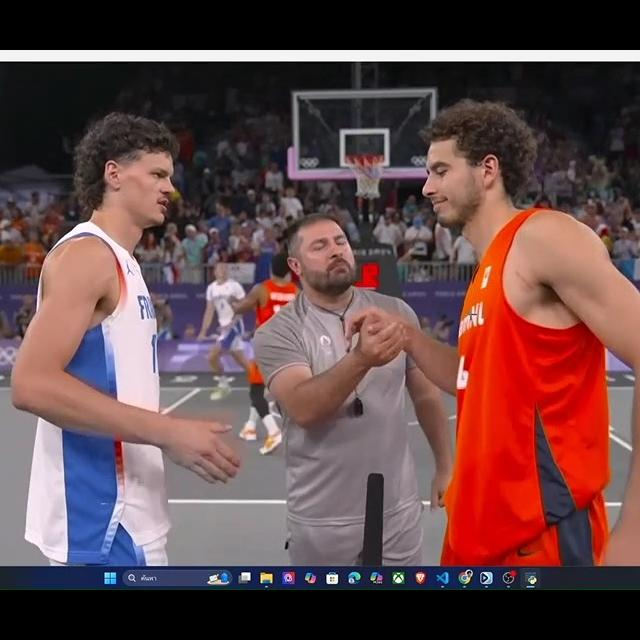hoop: (345, 149, 387, 195)
